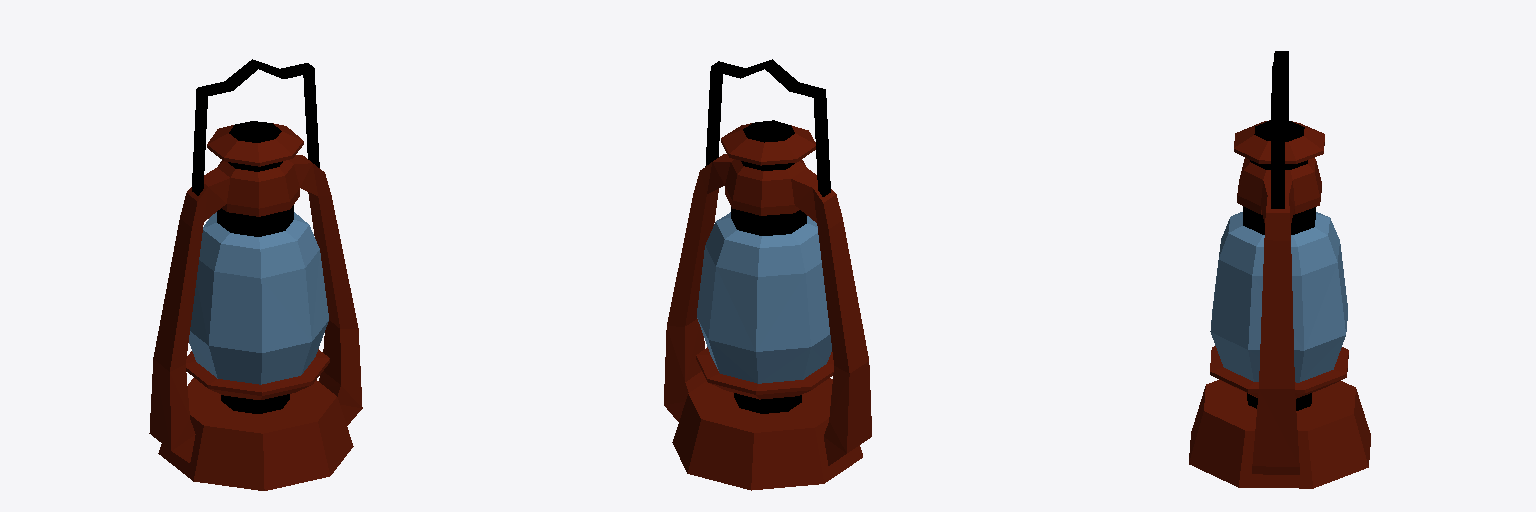
The model's file is lamp.obj.
The picture shows the model from 3 angles: view 1: azimuth 30°, elevation 25°; view 2: azimuth 150°, elevation 25°; view 3: azimuth 270°, elevation 25°; orthographic projection.
Visible parts, largest first — view 1: SM_Camping_Lamp; view 2: SM_Camping_Lamp; view 3: SM_Camping_Lamp.
Part boxes in pixels (left/top/right/bottom): SM_Camping_Lamp: left=149, top=59, right=362, bottom=490; SM_Camping_Lamp: left=664, top=59, right=871, bottom=490; SM_Camping_Lamp: left=1189, top=51, right=1370, bottom=488.
Bounding box in the file's own units: 0.3518 × 0.6911 × 0.2948.